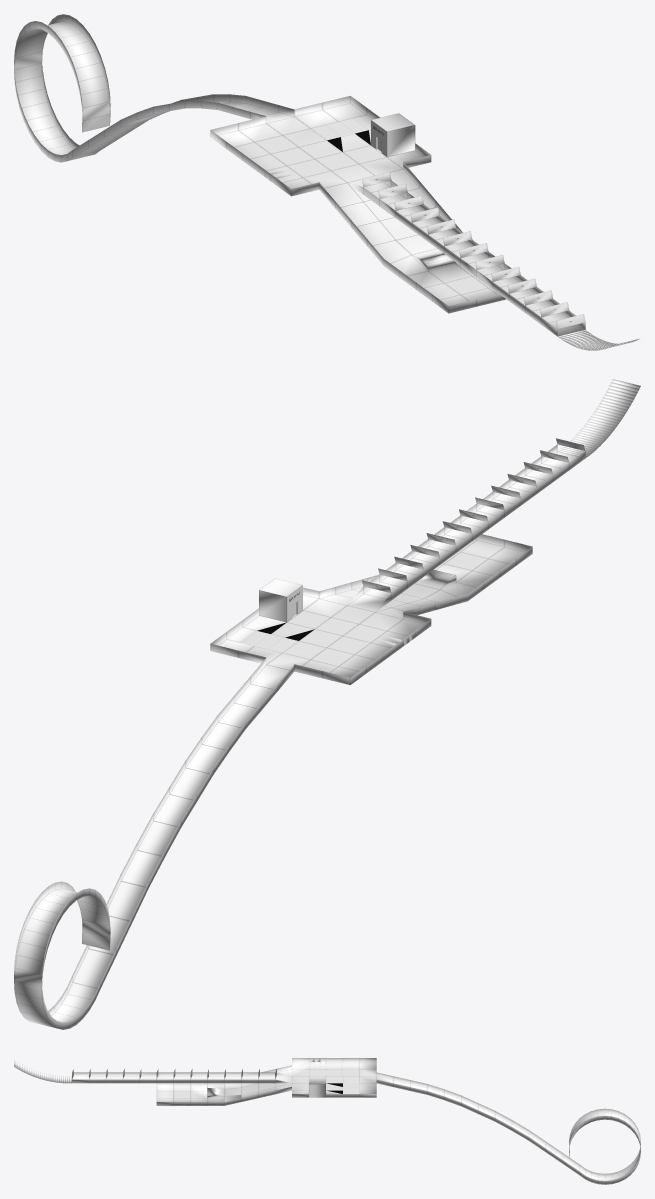
The model's file is tuning_testlevel_WLIGHTS.obj.
3 views of the same model, one above another, from view 1: azimuth 30°, elevation 25°; view 2: azimuth 150°, elevation 25°; view 3: azimuth 270°, elevation 25° (orthographic). The views are drawn at different scales.
Parts seen in each view (by area): view 1: Plane; view 2: Plane; view 3: Plane.
Part boxes in pixels (<box>): Plane: <box>14,14,639,350</box>; Plane: <box>14,379,640,1029</box>; Plane: <box>14,1058,640,1184</box>.
Bounding box in the file's own units: 100 × 154 × 741.
15 materials, 15 textured.
